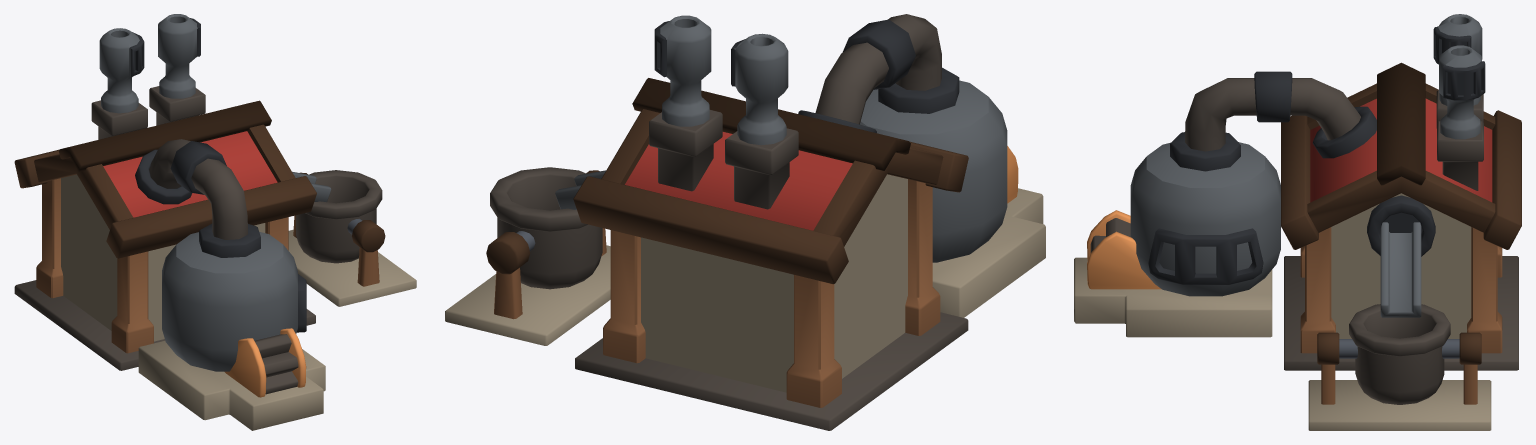
The model's file is Foundry.fbx.
The picture shows the model from 3 angles, left to right: view 1: azimuth 30°, elevation 25°; view 2: azimuth 150°, elevation 25°; view 3: azimuth 270°, elevation 25°; orthographic projection. The views are drawn at different scales.
Parts seen in each view (by area): view 1: Cylinder.281, Cube.1317, Cube.1306, Cube.1305, Cube.1311, Plane.079, Cube.1308, Cylinder.277, Cube.1310, Cube.1313, Cube.1307, Cylinder.286 (+10 smaller); view 2: Cube.1305, Cube.1311, Cube.1308, Cube.1306, Cylinder.281, Cube.1307, Plane.079, Cylinder.277, Cube.1317, Cube.1313, Cube.1310, Cylinder.276 (+6 smaller); view 3: Cylinder.281, Cube.1306, Plane.079, Cube.1305, Cube.1317, Cylinder.277, Cube.1311, Cube.1313, Cube.1308, Cube.1310, Cube.1307, Cylinder.282 (+13 smaller).
Part boxes in pixels (x1,y1,x2,y2): Cylinder.281: [162, 232, 297, 371]; Cube.1317: [138, 341, 325, 430]; Cube.1306: [34, 124, 295, 229]; Cube.1305: [61, 174, 265, 341]; Cube.1311: [14, 149, 316, 258]; Plane.079: [149, 139, 260, 257]; Cube.1308: [36, 178, 288, 353]; Cylinder.277: [296, 170, 382, 263]; Cube.1310: [59, 100, 271, 171]; Cube.1313: [288, 229, 416, 306]; Cube.1307: [14, 280, 315, 370]; Cylinder.286: [99, 28, 144, 113]; Cube.1305: [641, 174, 907, 392]; Cube.1311: [573, 141, 968, 284]; Cube.1308: [603, 179, 940, 407]; Cube.1306: [601, 109, 943, 246]; Cylinder.281: [860, 80, 1007, 262]; Cube.1307: [575, 312, 968, 430]; Plane.079: [815, 14, 959, 124]; Cylinder.277: [490, 167, 602, 289]; Cube.1317: [932, 188, 1045, 317]; Cube.1313: [445, 245, 610, 345]; Cube.1310: [632, 78, 910, 170]; Cylinder.276: [654, 15, 711, 126]; Cylinder.281: [1130, 142, 1280, 296]; Cube.1306: [1307, 83, 1495, 232]; Plane.079: [1170, 71, 1360, 171]; Cube.1305: [1331, 193, 1471, 338]; Cube.1317: [1074, 257, 1272, 337]; Cylinder.277: [1349, 304, 1450, 404]; Cube.1311: [1281, 110, 1521, 249]; Cube.1313: [1308, 380, 1491, 430]; Cube.1308: [1300, 227, 1502, 353]; Cube.1310: [1377, 62, 1425, 185]; Cube.1307: [1284, 256, 1518, 370]; Cylinder.282: [1148, 228, 1263, 284].
Bounding box in the file's own units: 170 × 137 × 193.
